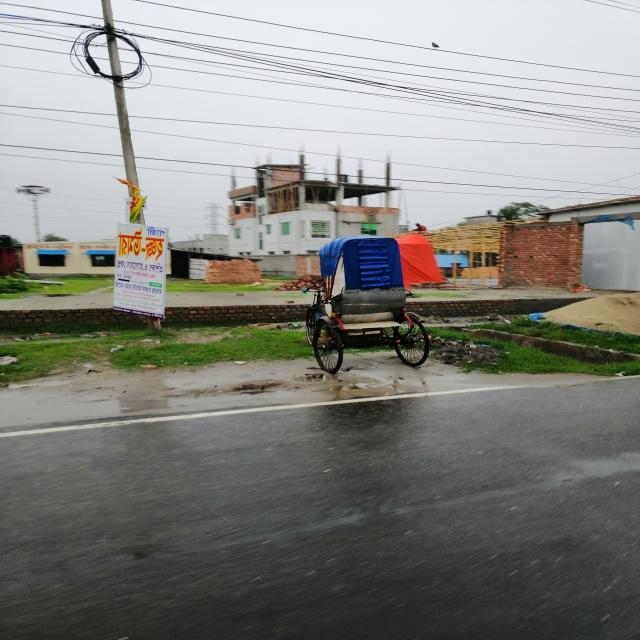Rickshaw: (303, 230, 429, 378)
